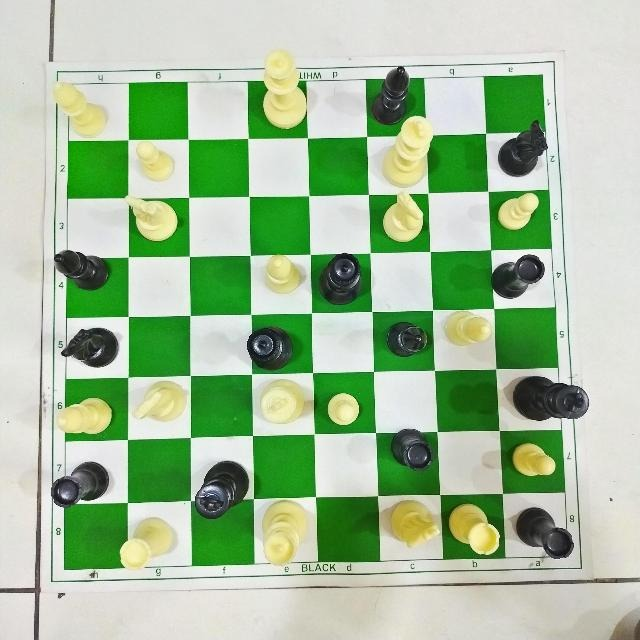black-bishop: (49, 239, 120, 301), (373, 60, 432, 120), (385, 315, 433, 365)
black-king: (509, 371, 592, 433), (192, 454, 256, 519)
black-knight: (494, 120, 556, 184), (60, 318, 124, 370)
black-queen: (242, 315, 307, 373), (316, 246, 368, 308)
black-rook: (511, 501, 580, 565), (51, 457, 113, 512), (388, 419, 440, 478), (493, 249, 547, 302)
white-bishop: (49, 75, 115, 141), (51, 384, 117, 439), (440, 301, 495, 356), (256, 249, 309, 304)
white-king: (377, 116, 442, 187), (255, 376, 314, 428)
white-knight: (119, 186, 185, 243), (127, 380, 196, 432), (384, 495, 439, 550), (375, 191, 430, 245)
white-pawn: (129, 132, 182, 189), (322, 380, 372, 437), (507, 433, 560, 483), (492, 185, 544, 231)
white-queen: (254, 44, 311, 132), (250, 499, 319, 561)
white-rook: (113, 506, 184, 571), (446, 495, 504, 559)
